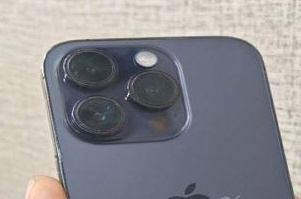physical_damage: (42, 134, 78, 199)
scratch: (60, 43, 134, 87), (66, 90, 127, 143), (124, 69, 193, 114)
